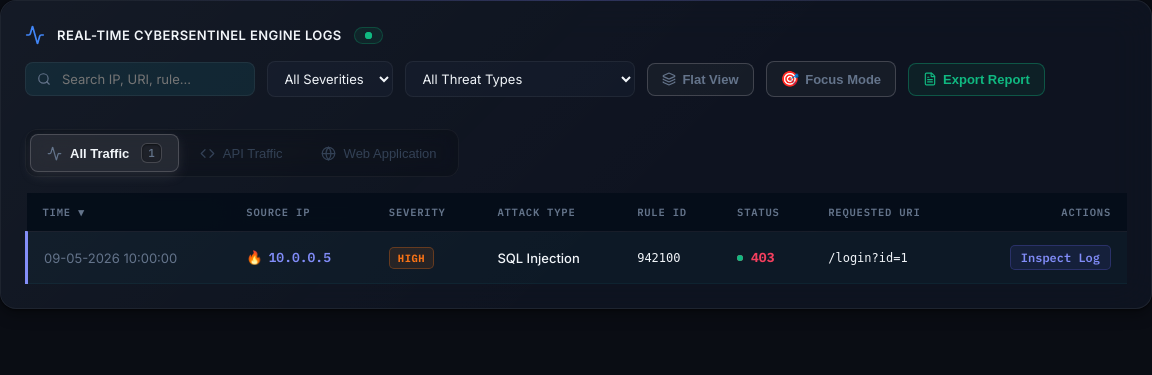
Test: Events — grouped view › switches to grouped view and fetches grouped data
Expected: the text "10.0.0.5" is shown, [268, 249, 331, 266]
Click the button "Flat View".
click(700, 79)  # box [647, 62, 754, 96]
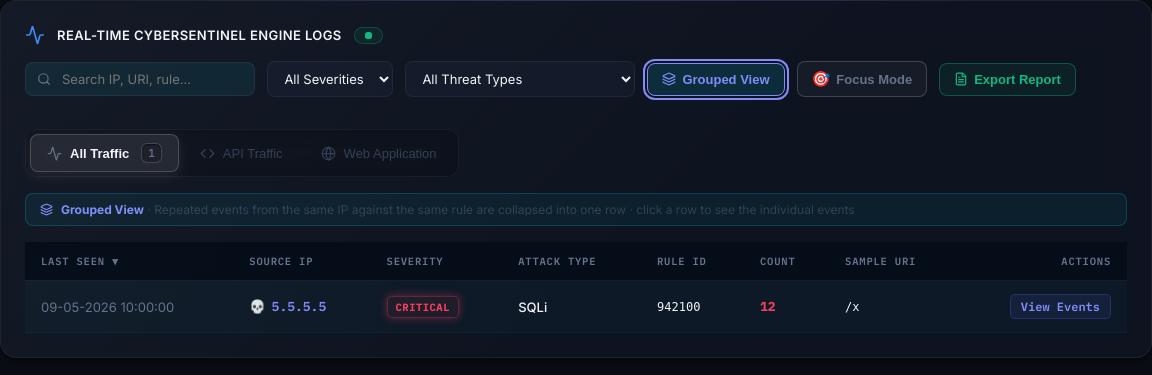
Now the text "5.5.5.5" is shown, box [272, 298, 326, 315]
Now the text "12" is shown, box [760, 298, 776, 315]
